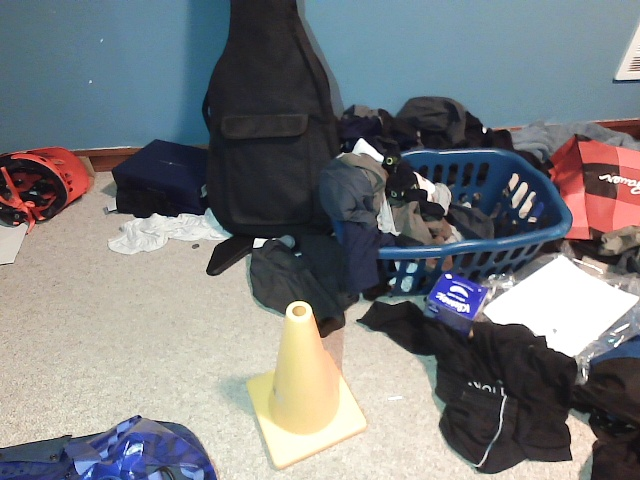cone: (244, 299, 370, 472)
